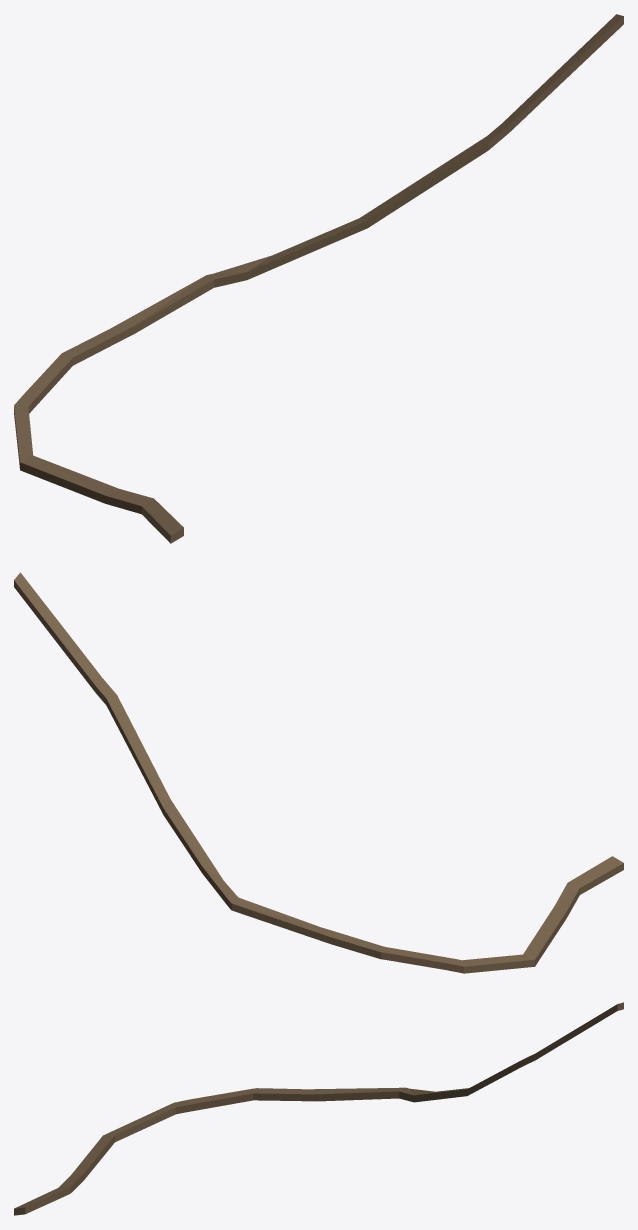
File: 17-109449-59498.4ccb6cf2.glb
3 renders of one model, top to bottom at view 1: azimuth 30°, elevation 25°; view 2: azimuth 150°, elevation 25°; view 3: azimuth 330°, elevation 25°, orthographic. The views are drawn at different scales.
Size of the model in its own units: 54.16 by 26.67 by 32.8.
